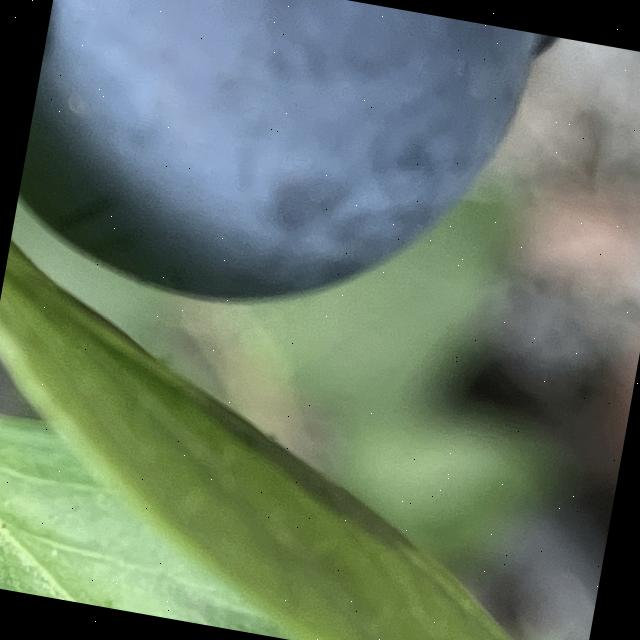Blueberries: (3, 0, 579, 363)
